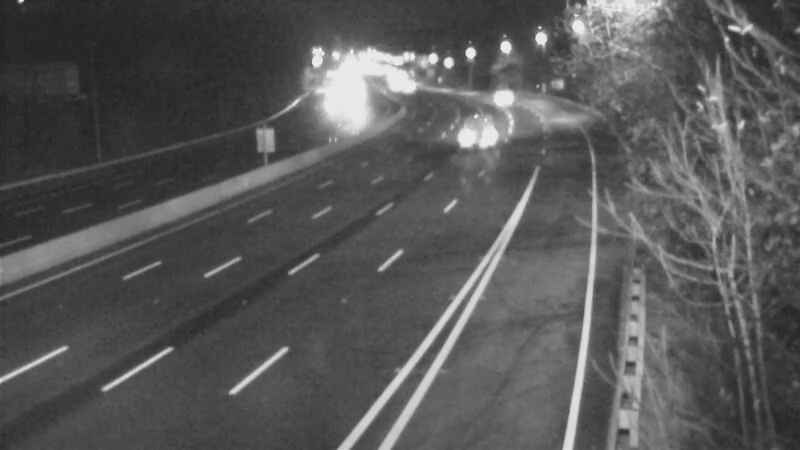vehicle: (468, 71, 518, 121), (457, 108, 507, 158)
